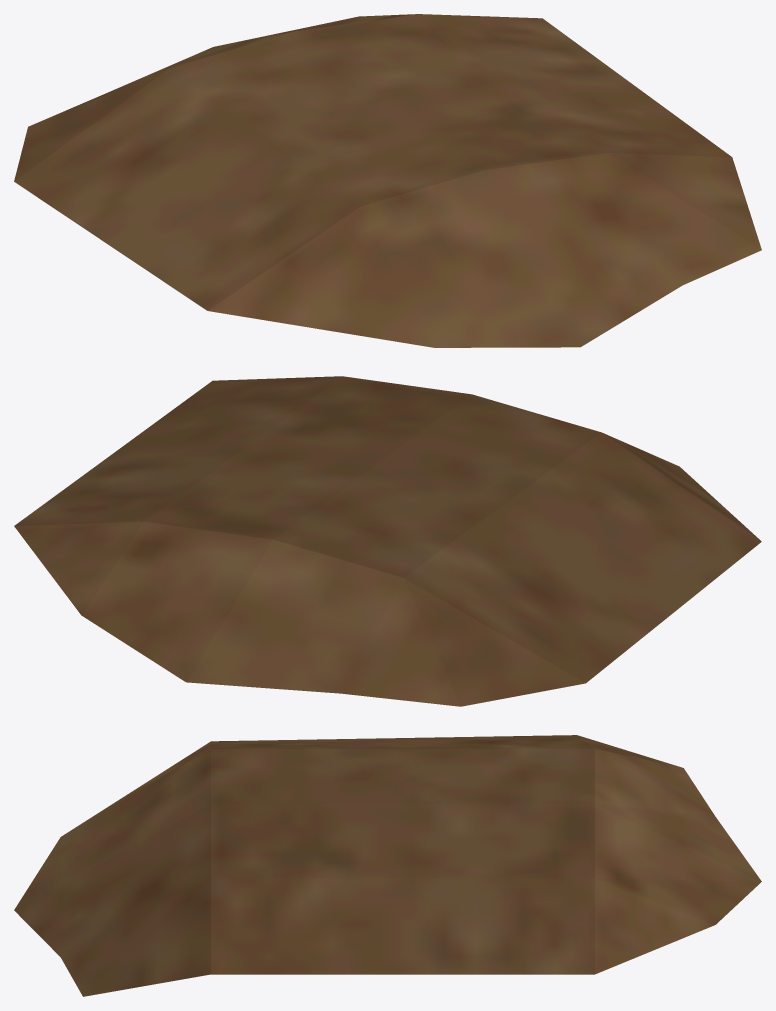
The model's file is DirtPile_02.glb.
The picture shows the model from 3 angles, top to bottom: view 1: azimuth 30°, elevation 25°; view 2: azimuth 150°, elevation 25°; view 3: azimuth 270°, elevation 25°; orthographic projection. The views are drawn at different scales.
Parts seen in each view (by area): view 1: DirtPile_02; view 2: DirtPile_02; view 3: DirtPile_02.
Boxes of the visible parts, x1,y1,x2,y2 form: DirtPile_02: [14, 14, 761, 347]; DirtPile_02: [14, 376, 761, 706]; DirtPile_02: [14, 735, 761, 996].
Size of the model in its own units: 766 by 144 by 913.
Materials: 1 (1 with a texture image).
